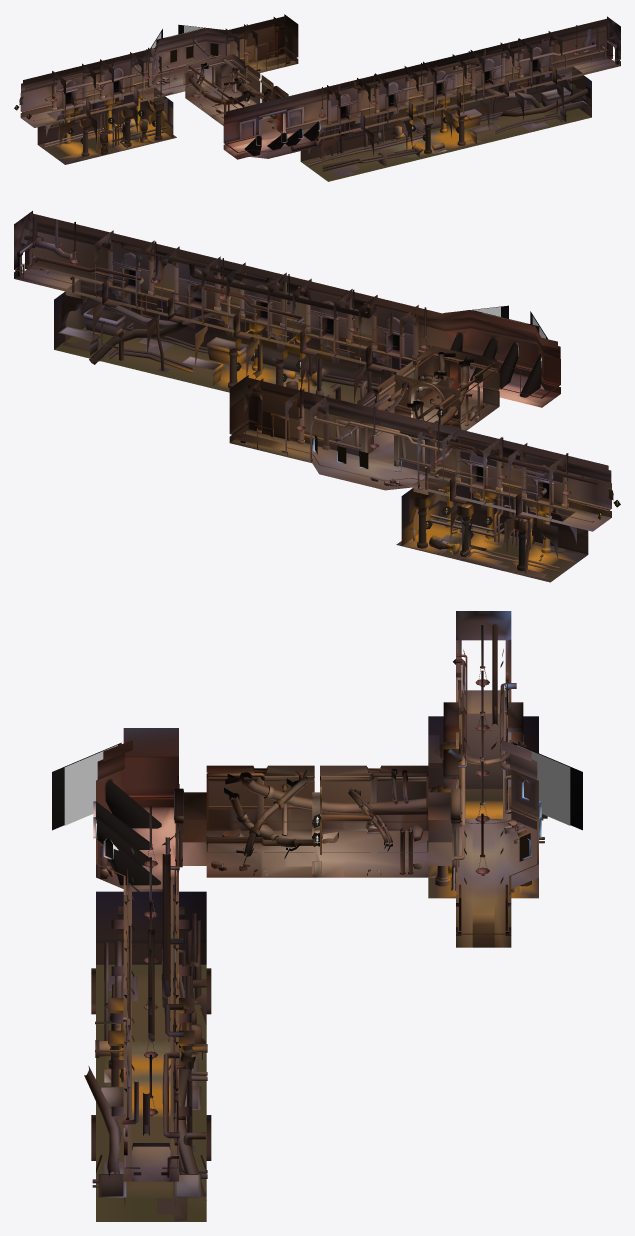
The model's file is 07Hall.gltf.
3 renders of one model, top to bottom at view 1: azimuth 30°, elevation 25°; view 2: azimuth 150°, elevation 25°; view 3: azimuth 270°, elevation 25°, orthographic. The views are drawn at different scales.
Visible parts, largest first — view 1: stg033_o15_Mesh_0044, stg033_o15_Mesh_0010, stg033_o15_Mesh_0047, stg033_o15_Mesh_0012, stg033_o15_Mesh_0017, stg033_o15_Mesh_0023, stg033_o15_Mesh_0034, stg033_o15_Mesh_0050, stg033_o15_Mesh_0014, stg033_o15_Mesh_0021, stg033_o15_Mesh_0030, stg033_o15_Mesh_0036 (+24 smaller); view 2: stg033_o15_Mesh_0044, stg033_o15_Mesh_0010, stg033_o15_Mesh_0047, stg033_o15_Mesh_0012, stg033_o15_Mesh_0034, stg033_o15_Mesh_0023, stg033_o15_Mesh_0017, stg033_o15_Mesh_0014, stg033_o15_Mesh_0050, stg033_o15_Mesh_0036, stg033_o15_Mesh_0021, stg033_o15_Mesh_0030 (+23 smaller); view 3: stg033_o15_Mesh_0044, stg033_o15_Mesh_0047, stg033_o15_Mesh_0050, stg033_o15_Mesh_0014, stg033_o15_Mesh_0035, stg033_o15_Mesh_0021, stg033_o16_Mesh_0020, stg033_o15_Mesh_0017, stg033_g17_Mesh_0001, stg033_o15_Mesh_0041, stg033_k15_Mesh_0000, stg033_o15_Mesh_0010 (+19 smaller).
Part boxes in pixels (bbox=[...]): stg033_o15_Mesh_0044: bbox=[43, 23, 615, 163]; stg033_o15_Mesh_0010: bbox=[21, 14, 620, 156]; stg033_o15_Mesh_0047: bbox=[21, 53, 620, 159]; stg033_o15_Mesh_0012: bbox=[20, 29, 620, 142]; stg033_o15_Mesh_0017: bbox=[47, 44, 618, 178]; stg033_o15_Mesh_0023: bbox=[21, 26, 620, 173]; stg033_o15_Mesh_0034: bbox=[56, 26, 556, 127]; stg033_o15_Mesh_0050: bbox=[23, 55, 618, 181]; stg033_o15_Mesh_0014: bbox=[46, 22, 618, 161]; stg033_o15_Mesh_0021: bbox=[40, 105, 588, 180]; stg033_o15_Mesh_0030: bbox=[37, 39, 619, 161]; stg033_o15_Mesh_0036: bbox=[52, 17, 562, 109]; stg033_o15_Mesh_0044: bbox=[20, 217, 593, 561]; stg033_o15_Mesh_0010: bbox=[14, 211, 611, 571]; stg033_o15_Mesh_0047: bbox=[14, 265, 611, 550]; stg033_o15_Mesh_0012: bbox=[14, 231, 611, 508]; stg033_o15_Mesh_0034: bbox=[102, 243, 562, 512]; stg033_o15_Mesh_0023: bbox=[14, 226, 611, 582]; stg033_o15_Mesh_0017: bbox=[17, 249, 575, 573]; stg033_o15_Mesh_0014: bbox=[17, 238, 576, 554]; stg033_o15_Mesh_0050: bbox=[17, 267, 608, 582]; stg033_o15_Mesh_0036: bbox=[94, 230, 568, 487]; stg033_o15_Mesh_0021: bbox=[57, 326, 584, 579]; stg033_o15_Mesh_0030: bbox=[17, 242, 588, 554]; stg033_o15_Mesh_0044: bbox=[84, 654, 543, 1196]; stg033_o15_Mesh_0047: bbox=[91, 690, 547, 1181]; stg033_o15_Mesh_0050: bbox=[96, 690, 538, 1221]; stg033_o15_Mesh_0014: bbox=[110, 661, 507, 1175]; stg033_o15_Mesh_0035: bbox=[104, 716, 538, 1220]; stg033_o15_Mesh_0021: bbox=[104, 789, 530, 1221]; stg033_o16_Mesh_0020: bbox=[182, 842, 452, 865]; stg033_o15_Mesh_0017: bbox=[104, 714, 530, 1221]; stg033_g17_Mesh_0001: bbox=[96, 659, 530, 1080]; stg033_o15_Mesh_0041: bbox=[96, 716, 538, 937]; stg033_k15_Mesh_0000: bbox=[64, 745, 570, 825]; stg033_o15_Mesh_0010: bbox=[97, 611, 537, 1068].
Bounding box in the file's own units: 214 × 35.2 × 95.91.
